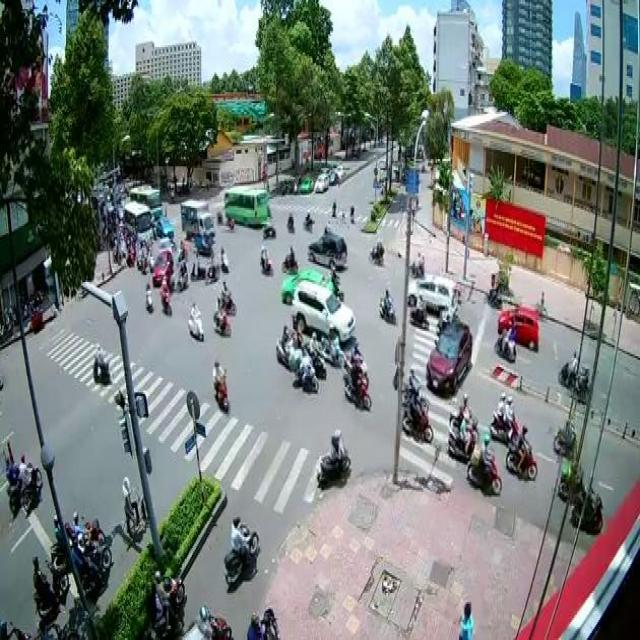bicycle: (30, 551, 69, 615), (120, 474, 148, 544), (18, 454, 42, 512), (2, 450, 22, 515)
bus: (223, 186, 267, 228), (307, 232, 347, 270)
car: (290, 278, 354, 344), (424, 320, 474, 396), (405, 271, 457, 313), (498, 306, 538, 352), (150, 246, 173, 286), (377, 288, 397, 324), (155, 213, 175, 239)
motorcycle: (222, 512, 259, 589), (145, 567, 184, 640), (465, 430, 503, 496), (314, 427, 350, 486), (488, 388, 520, 444), (505, 422, 536, 478), (211, 358, 228, 414), (552, 418, 577, 456), (90, 340, 112, 383), (210, 293, 231, 338), (557, 344, 578, 388), (213, 278, 236, 314), (186, 298, 203, 342), (278, 244, 298, 275), (202, 251, 220, 284), (158, 278, 172, 314), (258, 244, 273, 277), (190, 252, 205, 280), (142, 278, 154, 313), (174, 259, 187, 291), (220, 242, 230, 271)
truck: (180, 195, 214, 244)
